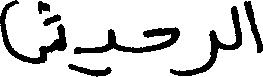X: (0, 0, 66, 68), (145, 22, 177, 76), (192, 25, 217, 76), (244, 0, 262, 57), (232, 1, 241, 54), (108, 24, 115, 76)
